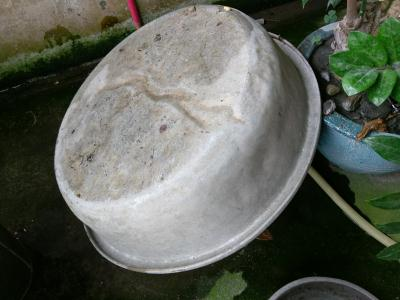bowl: (50, 5, 324, 276)
